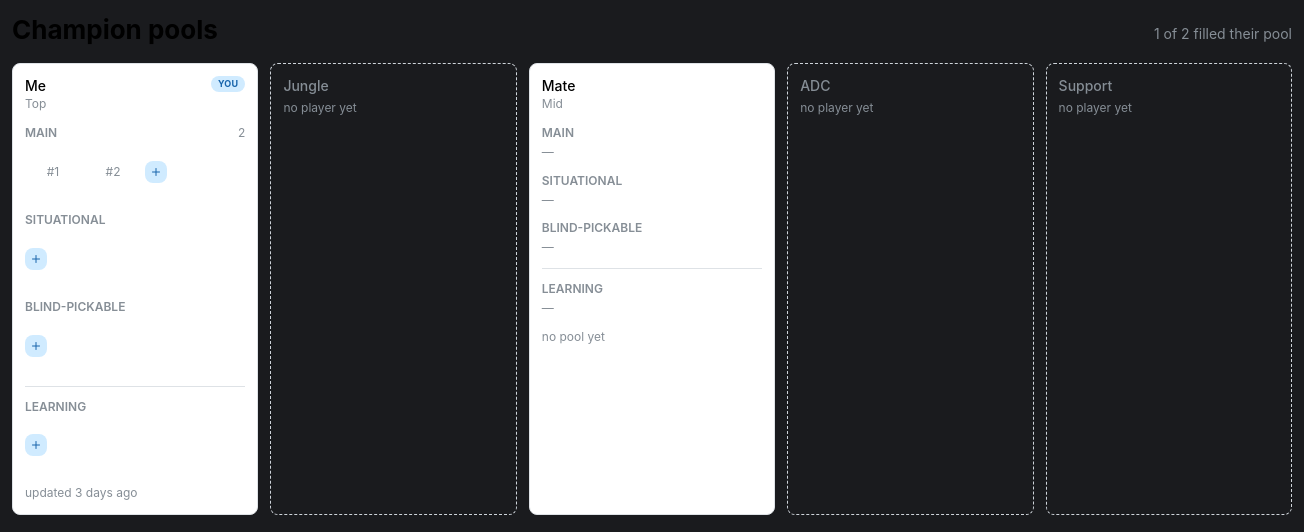
editing your own column › coming back into the panel within the window keeps it open
Step 1. Right-click the button "#1" → [53, 171], box [47,164,59,179]
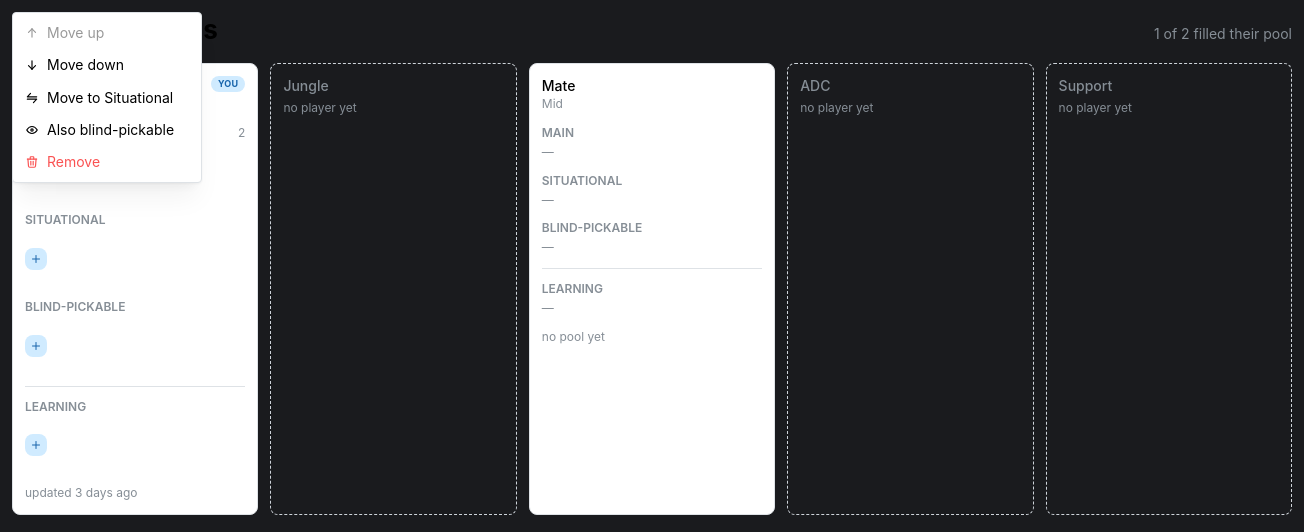
Step 2. Hover over the menu → [107, 98], box [12,12,202,184]
Now the menu is shown, box [12,12,202,184]
Note: no leaked open panel for the next test
Step 3. Press Escape
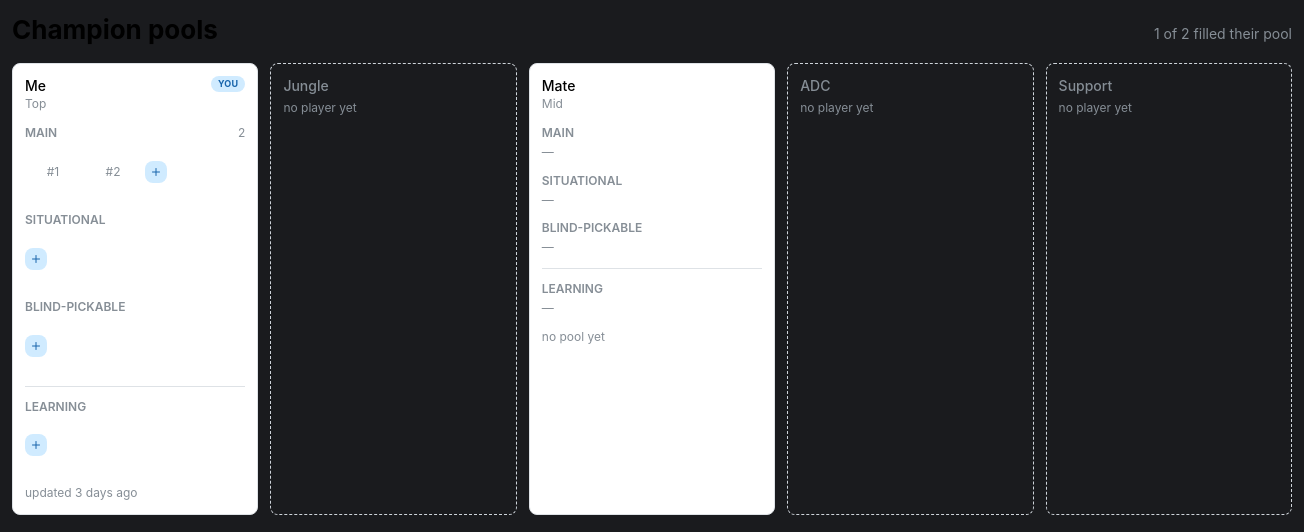
Now the menu is gone
